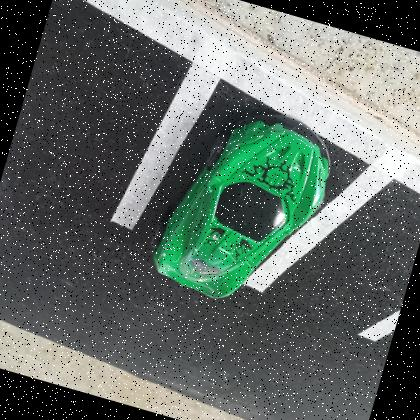Car: (153, 118, 330, 298)
